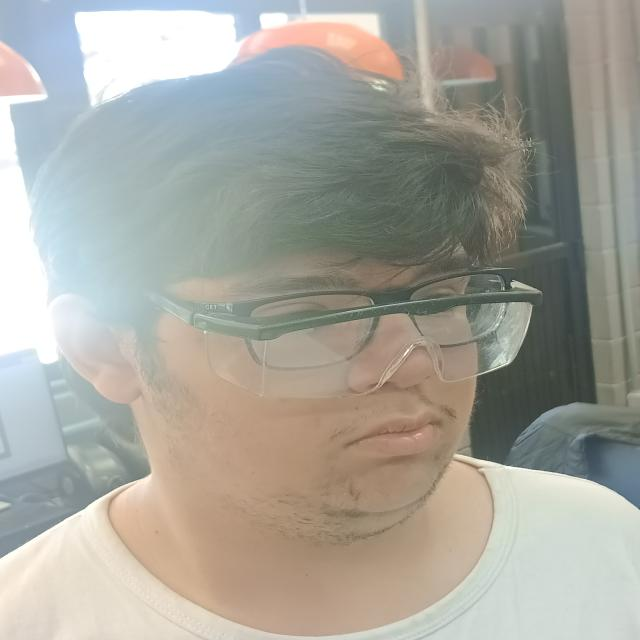oculos-epi: (142, 278, 543, 400)
